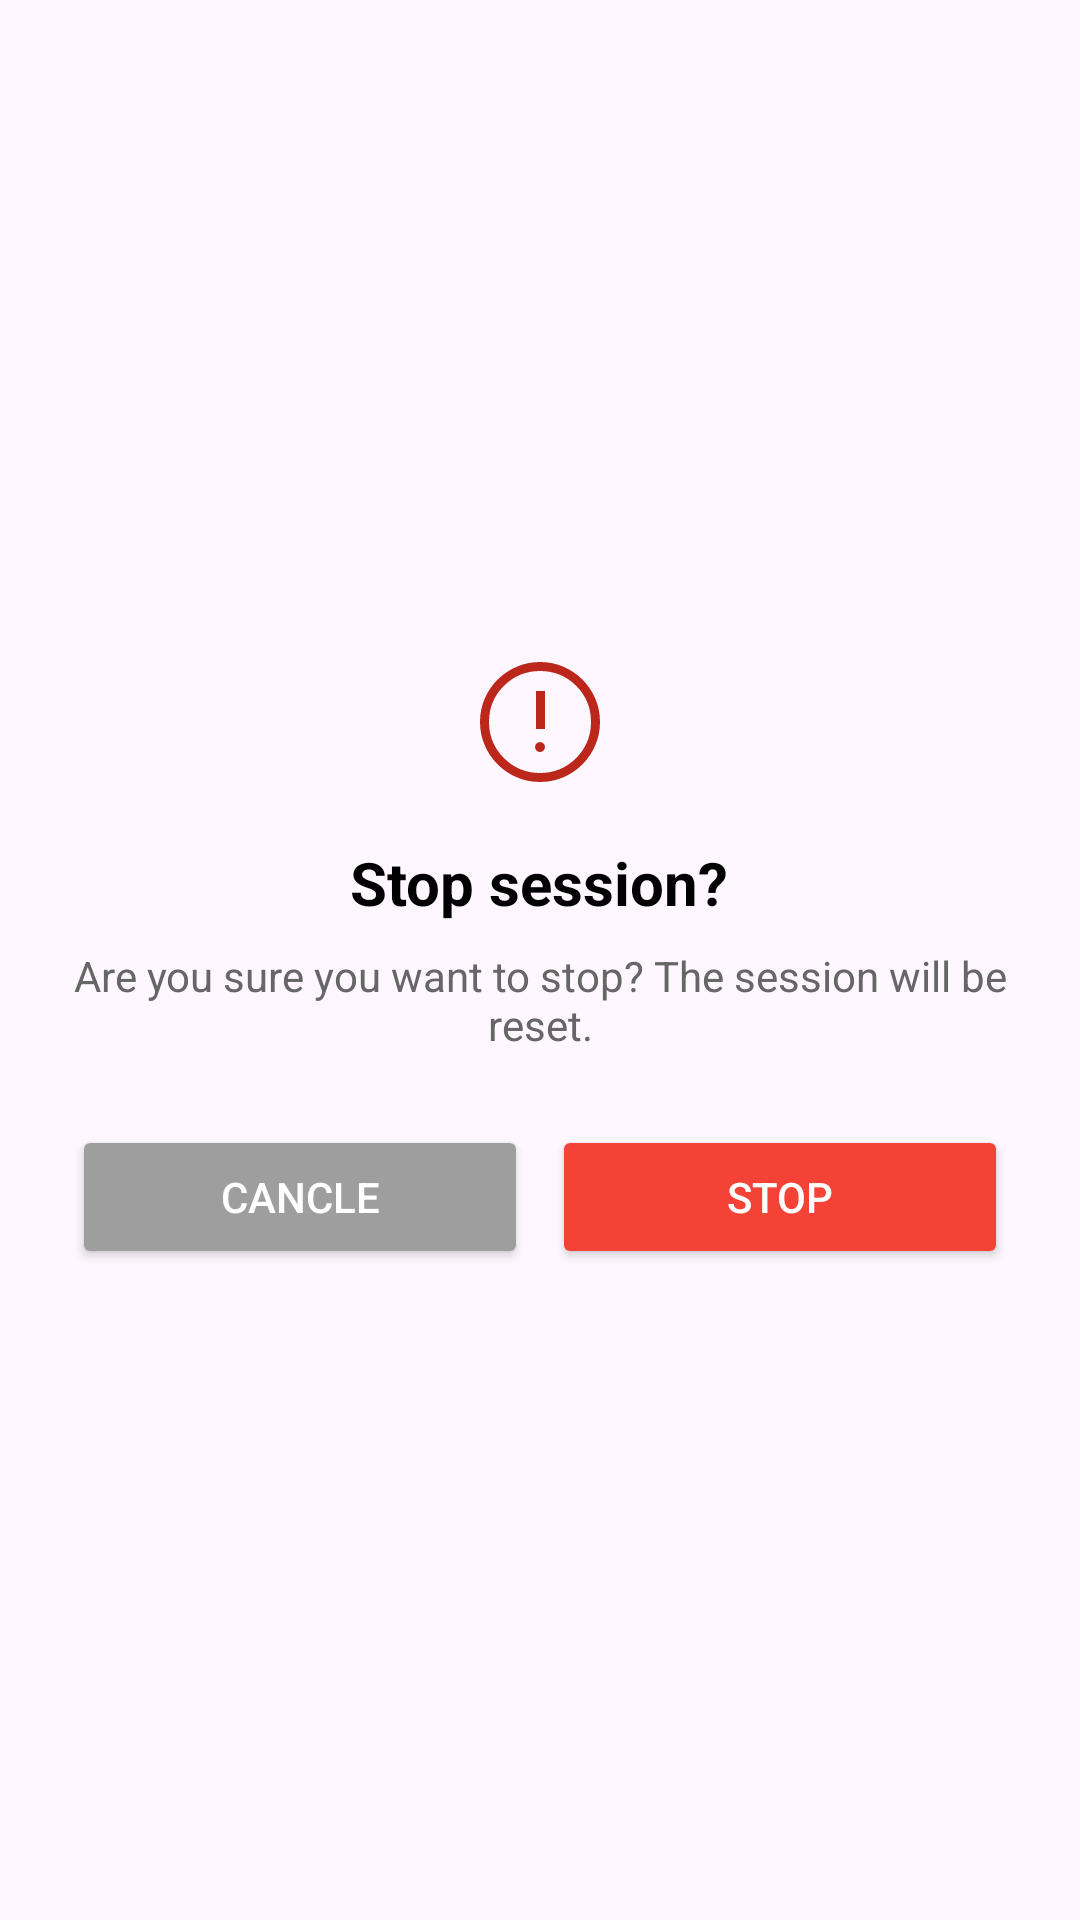

Locate icon controls on the screen. Image size 1080×1920, boxes as (x1, y1, x2, y2).
warning: (480, 662, 600, 782)
